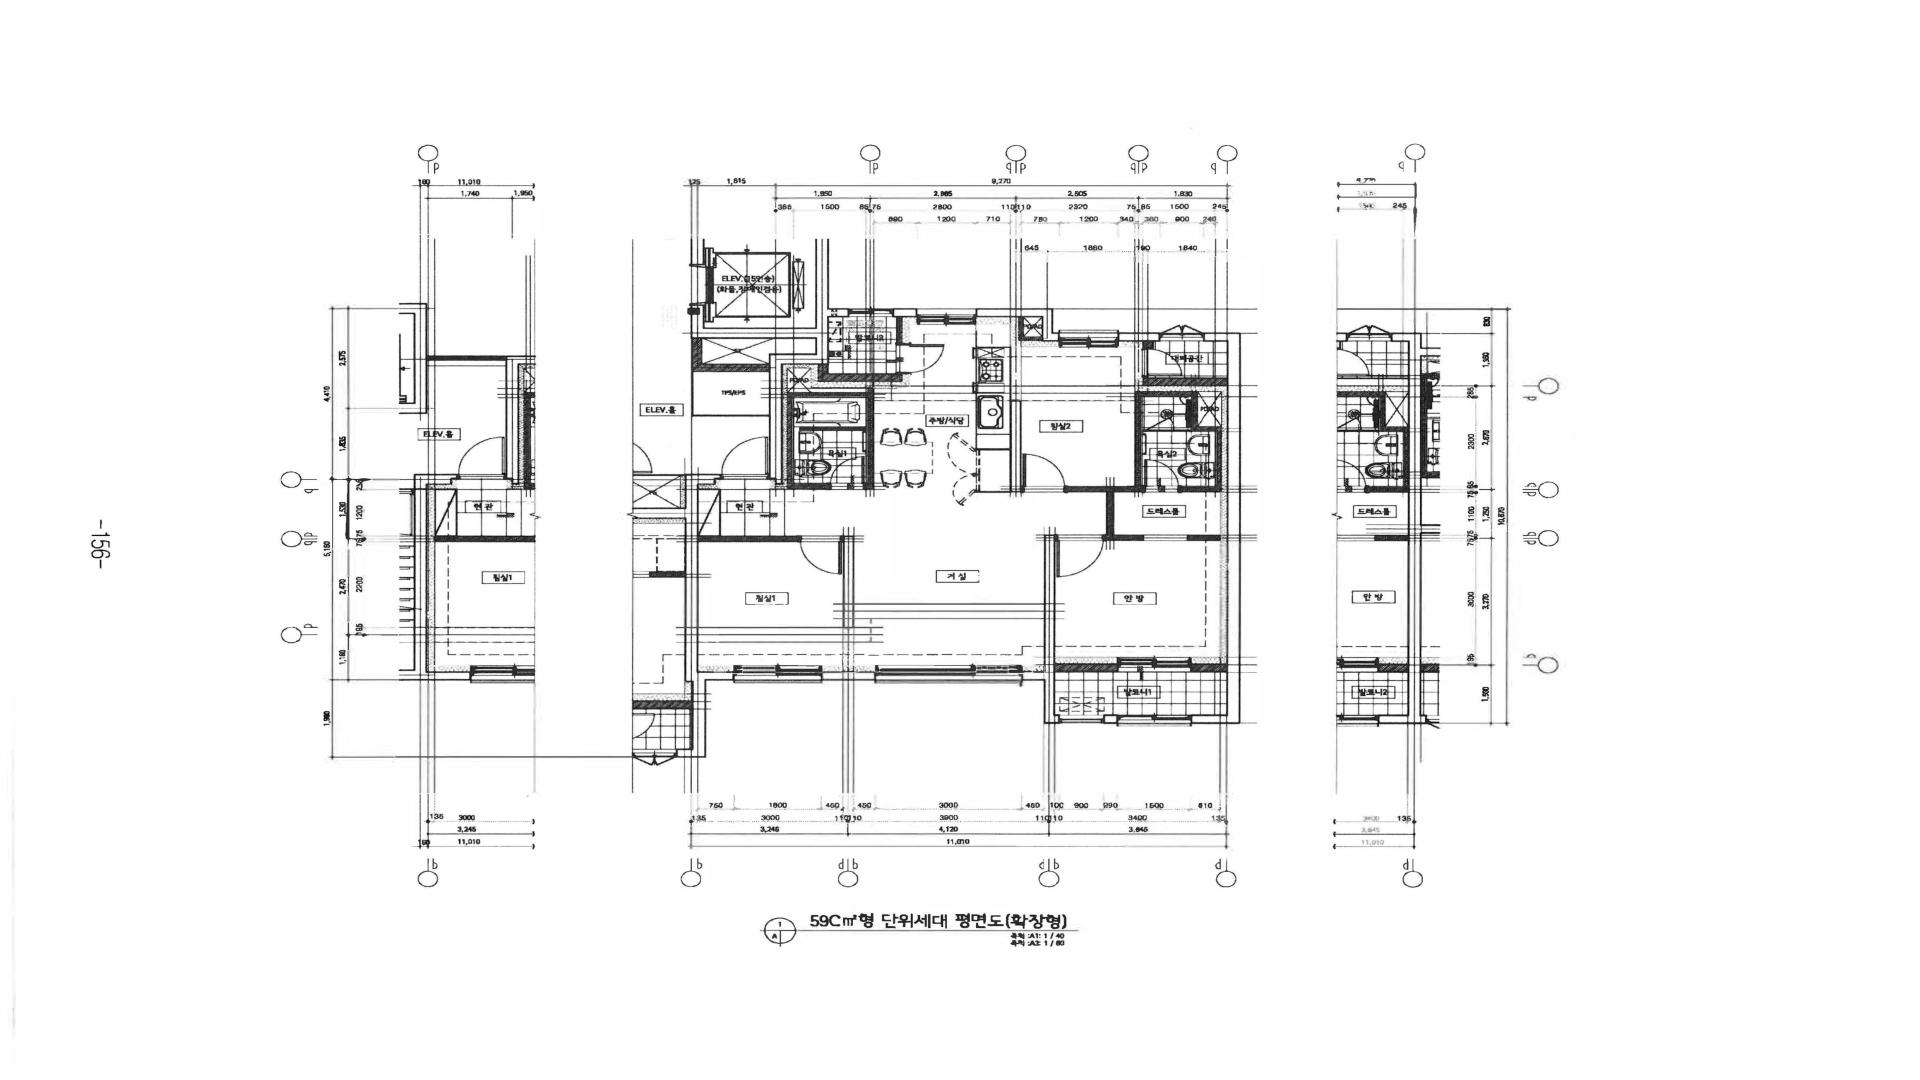door: (1055, 534, 1106, 578), (720, 436, 770, 480), (1021, 452, 1068, 492), (796, 535, 844, 575), (895, 343, 945, 373), (1141, 459, 1183, 492), (827, 456, 866, 489), (1143, 534, 1187, 541)
wall: (690, 239, 849, 484), (1068, 392, 1221, 541), (1192, 332, 1241, 724), (684, 473, 733, 682), (787, 388, 874, 491), (1022, 534, 1060, 724), (1009, 316, 1043, 492), (976, 309, 1059, 342), (691, 339, 769, 372), (843, 535, 855, 671), (818, 364, 903, 382), (1142, 377, 1226, 386), (698, 535, 798, 542), (1055, 663, 1117, 673), (823, 671, 874, 680), (1120, 332, 1159, 342), (691, 239, 704, 265), (1192, 663, 1226, 673), (1185, 534, 1220, 541), (893, 309, 916, 318), (897, 316, 903, 343), (1102, 715, 1117, 724), (1142, 342, 1154, 348)
window: (874, 665, 1023, 683), (733, 665, 823, 683), (1116, 657, 1193, 673), (1058, 330, 1120, 348), (916, 309, 977, 324), (1117, 715, 1191, 727), (1159, 324, 1204, 342), (1060, 715, 1104, 724), (849, 309, 893, 318)
